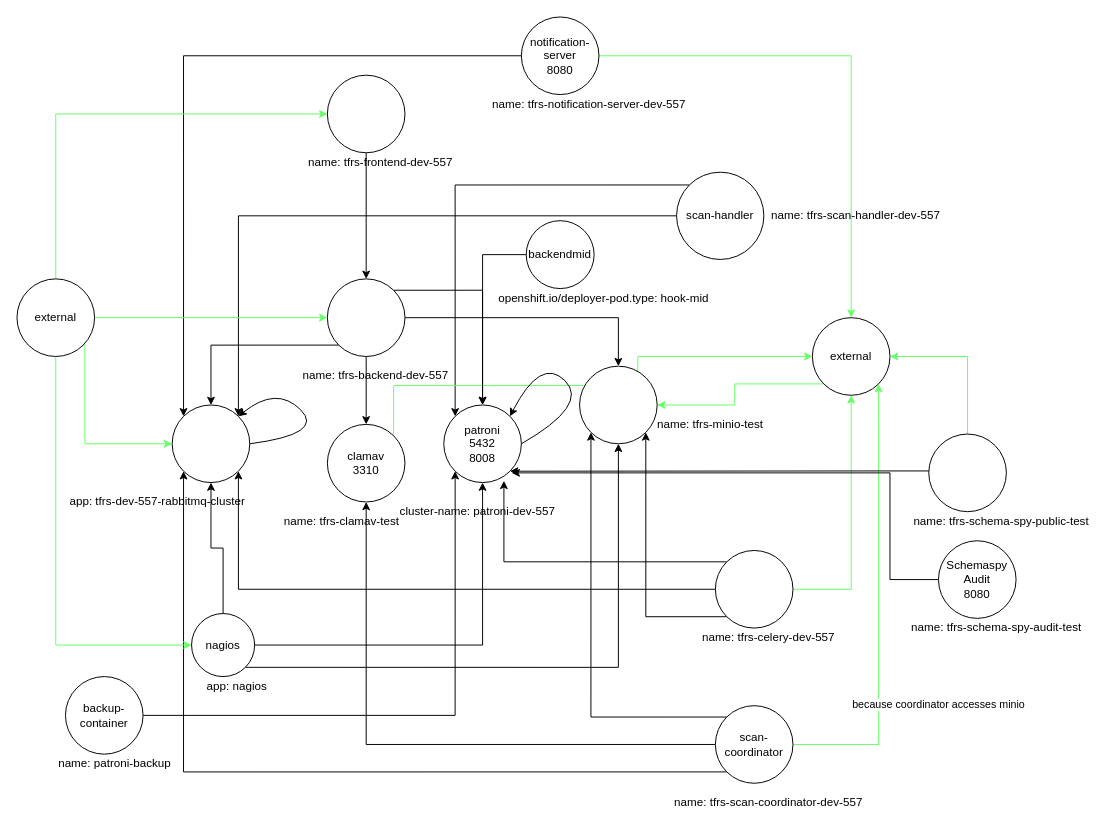
Image size: 1120x829. Some labels were removed from this diagram. The centre of each missing label's shape, as x and y in pixels:
"backend 8080" belongs at (365,317).
"celery" belongs at (753,589).
"frontend 8080" belongs at (365,113).
"minio 9000" belongs at (618,404).
"rabbitmq 5672 15672" belongs at (210,443).
"Schemaspy Public 8080" belongs at (967,472).
